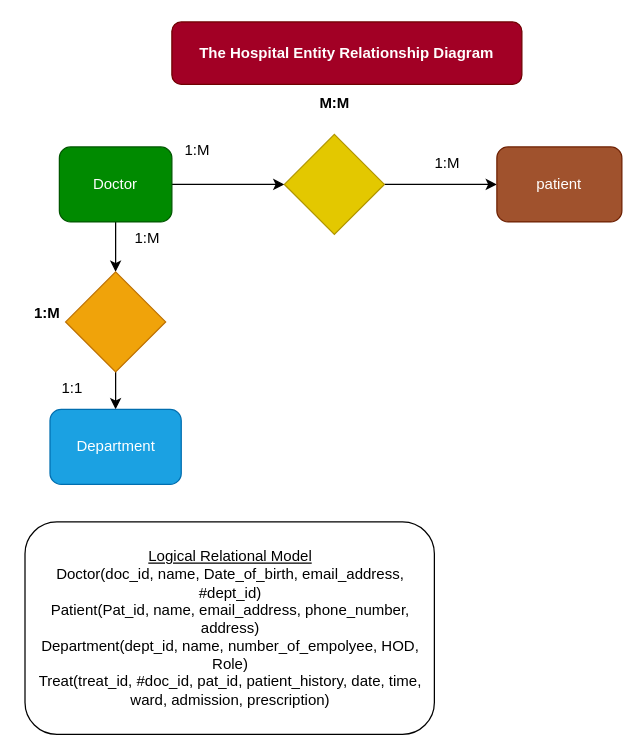
Image size: 644x756. Some labels were removed from this diagram. Each missing label, with the centre of its shape:
"Specialize" belongs at point (115, 321).
"Treat" belongs at point (333, 183).
